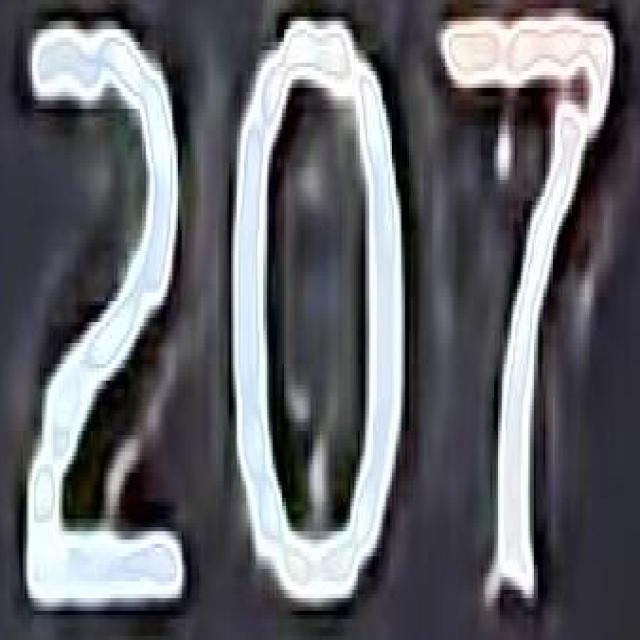character: (17, 4, 199, 618), (227, 10, 410, 617), (435, 12, 618, 617)
